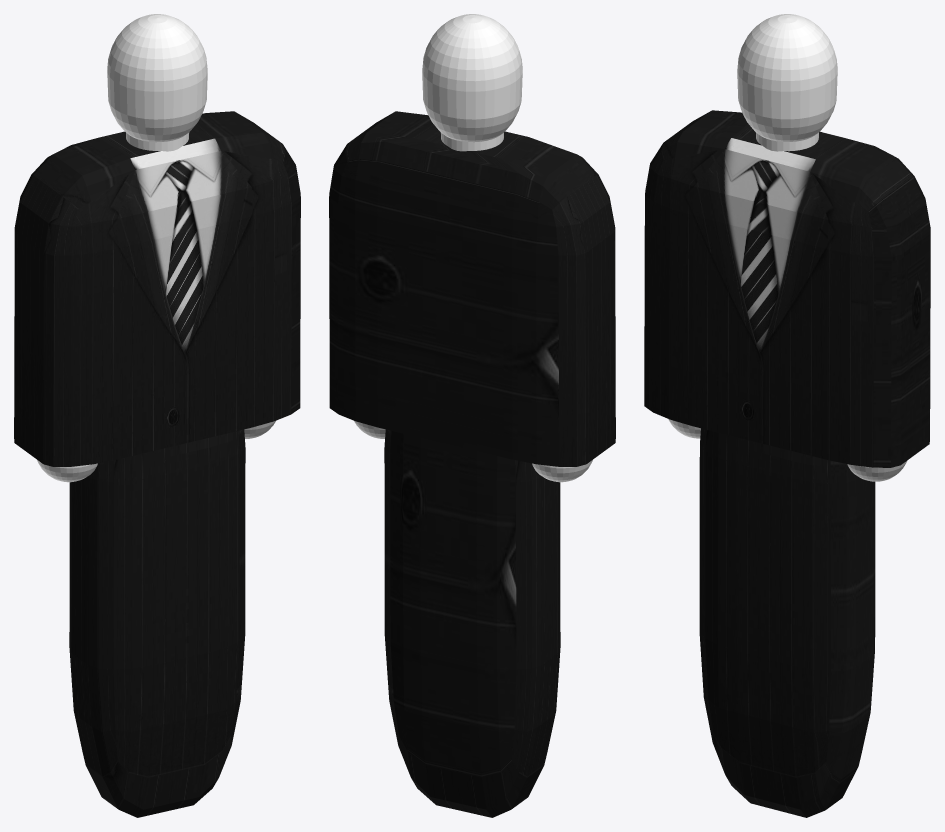
Rendered from simsuitOG.glb.
The picture shows the model from 3 angles, left to right: view 1: azimuth 30°, elevation 25°; view 2: azimuth 150°, elevation 25°; view 3: azimuth 330°, elevation 25°; orthographic projection.
Parts seen in each view (by area): view 1: Cube, Cube.001, Sphere, hand, neck; view 2: Cube, Cube.001, Sphere, hand, neck; view 3: Cube, Cube.001, Sphere, hand.001, neck.
Boxes of the visible parts, box(x1,y1,x2,y2) form: Cube: box(14, 111, 300, 466); Cube.001: box(69, 429, 245, 817); Sphere: box(107, 14, 207, 142); hand: box(37, 460, 97, 482); neck: box(126, 132, 189, 151); Cube: box(329, 111, 615, 466); Cube.001: box(384, 429, 560, 817); Sphere: box(422, 14, 522, 142); hand: box(532, 460, 592, 482); neck: box(440, 132, 503, 151); Cube: box(644, 110, 930, 467); Cube.001: box(699, 428, 875, 817); Sphere: box(737, 14, 837, 141); hand.001: box(847, 460, 907, 481); neck: box(756, 132, 818, 151).
Size of the model in its own units: 3.31 by 9.68 by 1.23.
2 materials, 1 textured.
